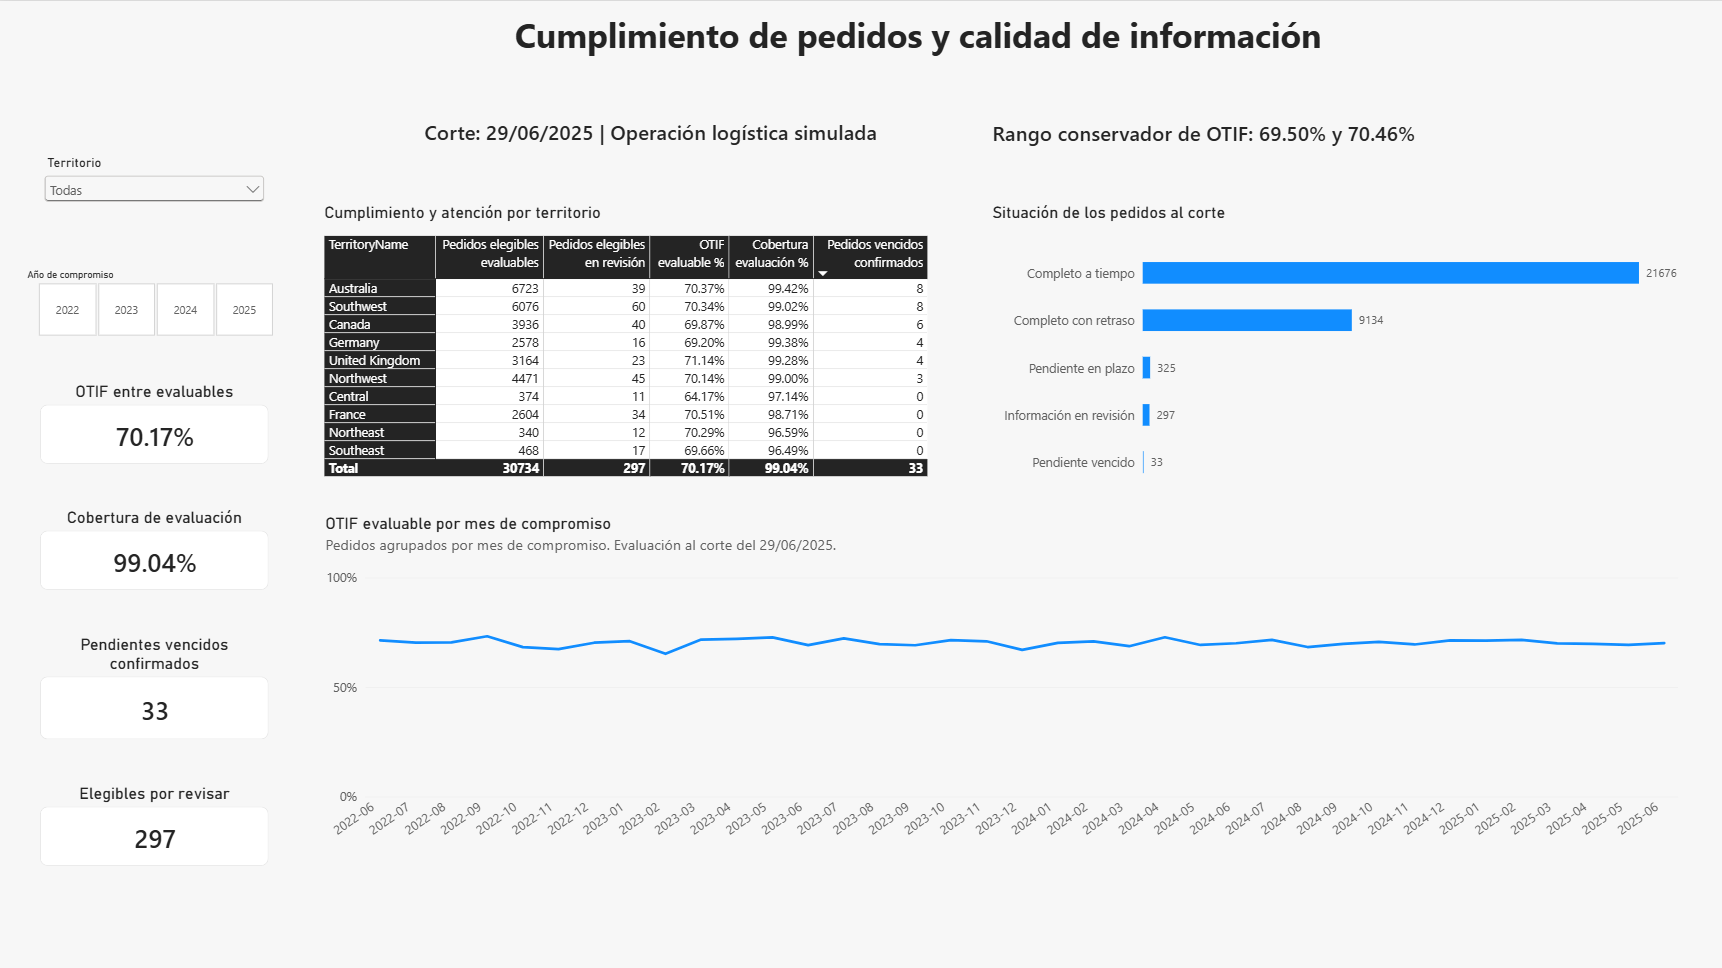

This screenshot's page, from the dashboard's own definition file:
{"tool":"powerbi","page":{"name":"Resumen Ejecutivo","canvas":[1920,1080],"ordinal":1},"visuals":[{"type":"textbox","box":[559,12,927,89],"z":0},{"type":"cardVisual","fields":{"Data":["FactPedidos.Texto fecha de corte"]},"box":[458,118,540,56],"z":1000},{"type":"slicer","fields":{"Values":["DimTerritorio.TerritoryName"]},"box":[47,171.4,254.3,76.5],"z":2000},{"type":"slicer","fields":{"Values":["DimFechaCompromiso.Anio"]},"box":[24,297.4,300,76],"z":3000},{"type":"cardVisual","title":"OTIF entre evaluables","fields":{"Data":["FactPedidos.OTIF evaluable %"]},"box":[47,422.9,254.3,91.2],"z":4000},{"type":"cardVisual","title":"Cobertura de evaluación","fields":{"Data":["FactPedidos.Cobertura evaluación %"]},"box":[47,563.6,254.3,91.2],"z":5000},{"type":"cardVisual","title":"Elegibles por revisar","fields":{"Data":["FactPedidos.Pedidos elegibles en revisión"]},"box":[47,869.9,254.3,91.2],"z":6000},{"type":"cardVisual","title":"Pendientes vencidos confirmados","fields":{"Data":["FactPedidos.Pedidos vencidos confirmados"]},"box":[47,704.3,254.3,116.1],"z":7000},{"type":"lineChart","title":"OTIF evaluable por mes de compromiso","fields":{"Category":["DimFechaCompromiso.AnioMes"],"Y":["FactPedidos.OTIF evaluable %"]},"box":[347.3,555.5,1535.5,405.5],"z":8000},{"type":"pivotTable","title":"Cumplimiento y atención por territorio","fields":{"Rows":["DimTerritorio.TerritoryName"],"Values":["FactPedidos.Pedidos elegibles evaluables","FactPedidos.Pedidos elegibles en revisión","FactPedidos.OTIF evaluable %","FactPedidos.Cobertura evaluación %","FactPedidos.Pedidos vencidos confirmados"]},"box":[347,210,711,378],"z":9000},{"type":"clusteredBarChart","title":"Situación de los pedidos al corte","fields":{"Category":["FactPedidos.Estado visible"],"Y":["FactPedidos.Pedidos totales"]},"box":[1089.2,210.1,793.4,353.9],"z":10000},{"type":"cardVisual","title":"Pendientes vencidos confirmados","fields":{"Data":["FactPedidos.Texto intervalo OTIF"]},"box":[1089.2,113.3,520,65],"z":11000}]}

Visuals, with their boxes in screenshot pixels (x1, y1, x2, y2), scaled from the page's 1920x1080 canvas onto the 1722x968 screenshot:
textbox: bbox(501, 11, 1333, 91)
cardVisual - FactPedidos.Texto fecha de corte: bbox(411, 106, 895, 156)
slicer - DimTerritorio.TerritoryName: bbox(42, 154, 270, 222)
slicer - DimFechaCompromiso.Anio: bbox(22, 267, 291, 335)
"OTIF entre evaluables" cardVisual: bbox(42, 379, 270, 461)
"Cobertura de evaluación" cardVisual: bbox(42, 505, 270, 587)
"Elegibles por revisar" cardVisual: bbox(42, 780, 270, 861)
"Pendientes vencidos confirmados" cardVisual: bbox(42, 631, 270, 735)
"OTIF evaluable por mes de compromiso" lineChart: bbox(311, 498, 1689, 861)
"Cumplimiento y atención por territorio" pivotTable: bbox(311, 188, 949, 527)
"Situación de los pedidos al corte" clusteredBarChart: bbox(977, 188, 1688, 506)
"Pendientes vencidos confirmados" cardVisual: bbox(977, 102, 1443, 160)
